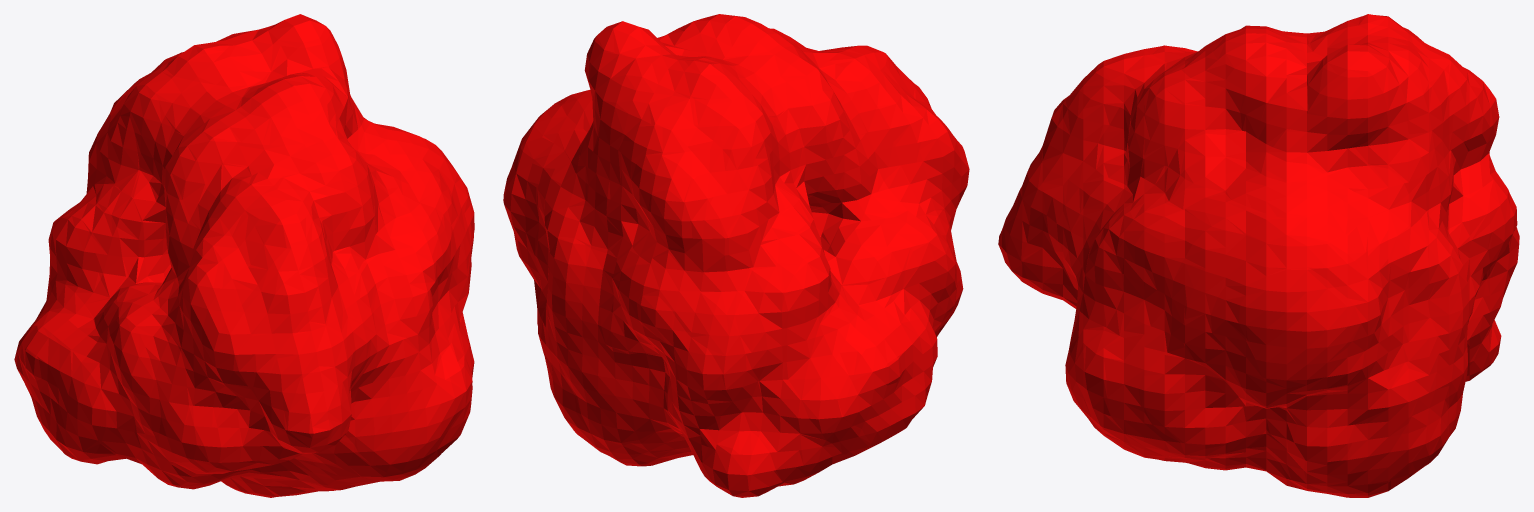
File: cysE_coarse.dae
The picture shows the model from 3 angles, left to right: view 1: azimuth 30°, elevation 25°; view 2: azimuth 150°, elevation 25°; view 3: azimuth 270°, elevation 25°; orthographic projection. The views are drawn at different scales.
Parts seen in each view (by area): view 1: cysE; view 2: cysE; view 3: cysE.
Boxes of the visible parts, left/top/right/bottom form: cysE: left=14, top=14, right=474, bottom=497; cysE: left=503, top=14, right=969, bottom=497; cysE: left=998, top=14, right=1519, bottom=497.
Size of the model in its own units: 69.58 by 70.22 by 73.25.
